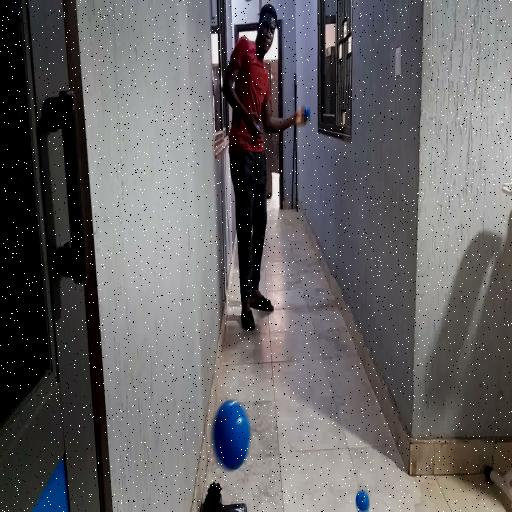plastic-ball: (211, 392, 252, 474)
